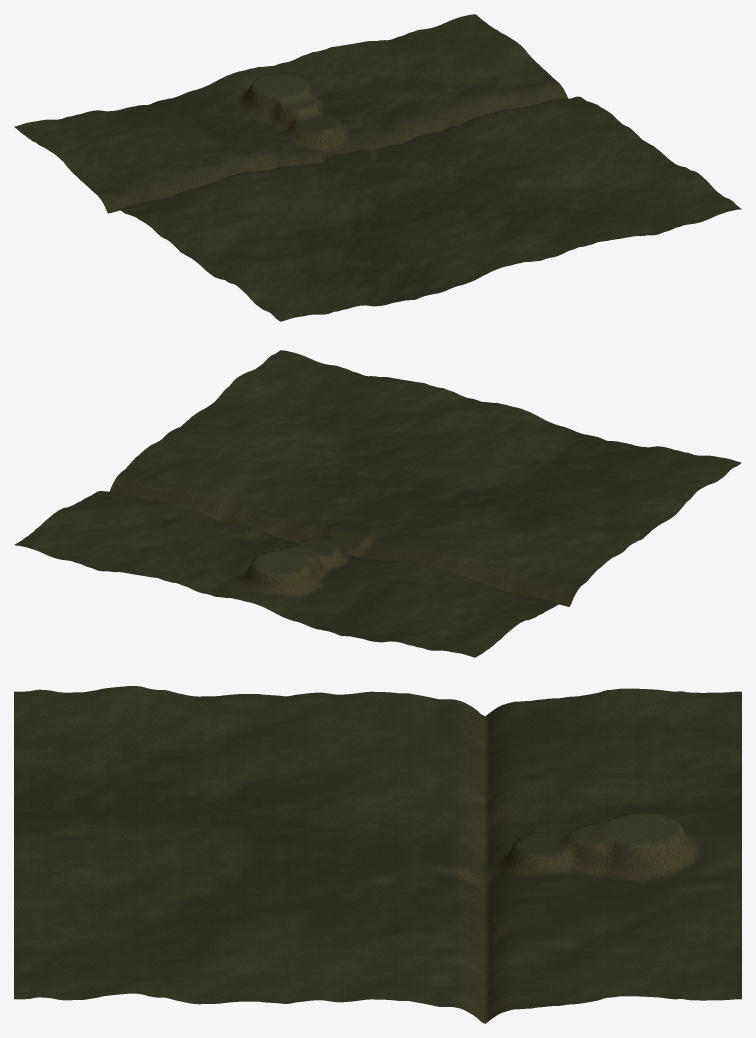
Rendered from mountains.glb.
3 renders of one model, top to bottom at view 1: azimuth 30°, elevation 25°; view 2: azimuth 150°, elevation 25°; view 3: azimuth 270°, elevation 25°, orthographic. The views are drawn at different scales.
Visible parts, largest first — view 1: Heightfield; view 2: Heightfield; view 3: Heightfield.
Part boxes in pixels (x1,y1,x2,y2): Heightfield: (14,14,741,321); Heightfield: (14,350,741,657); Heightfield: (14,686,741,1023).
Size of what is drawn, in the model's own units: 4800 by 347 by 4800.
1 material, 1 textured.
